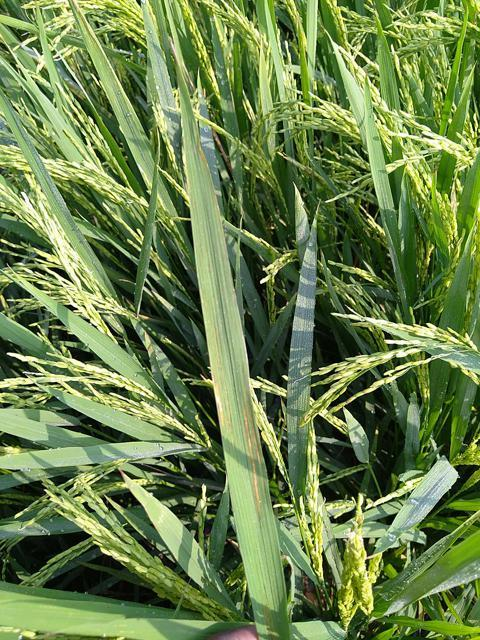Leaf Streak: (242, 354, 267, 520), (214, 383, 228, 437), (194, 116, 204, 172)
